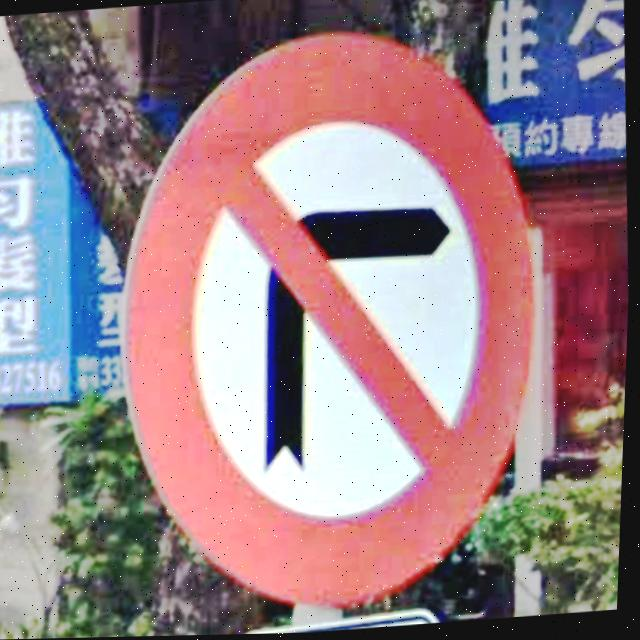noturnright: (121, 36, 539, 611)
